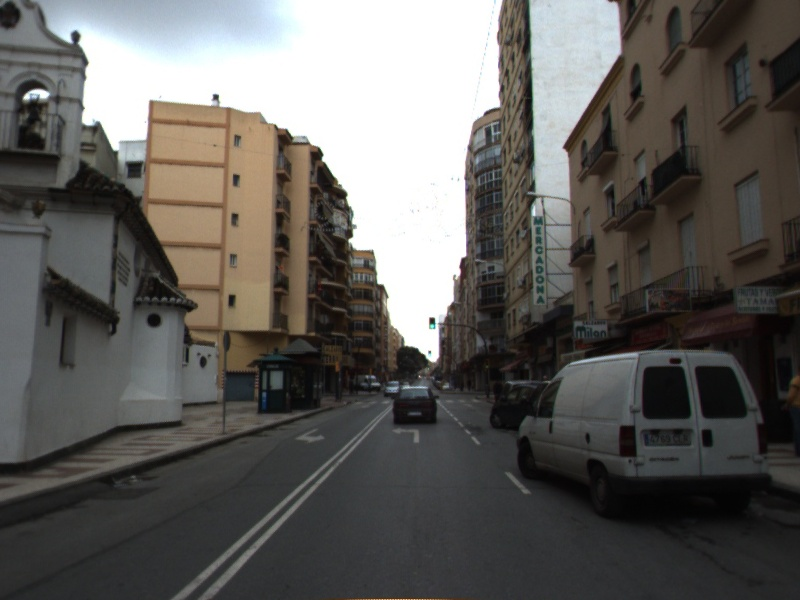LEFT: (390, 426, 421, 445)
